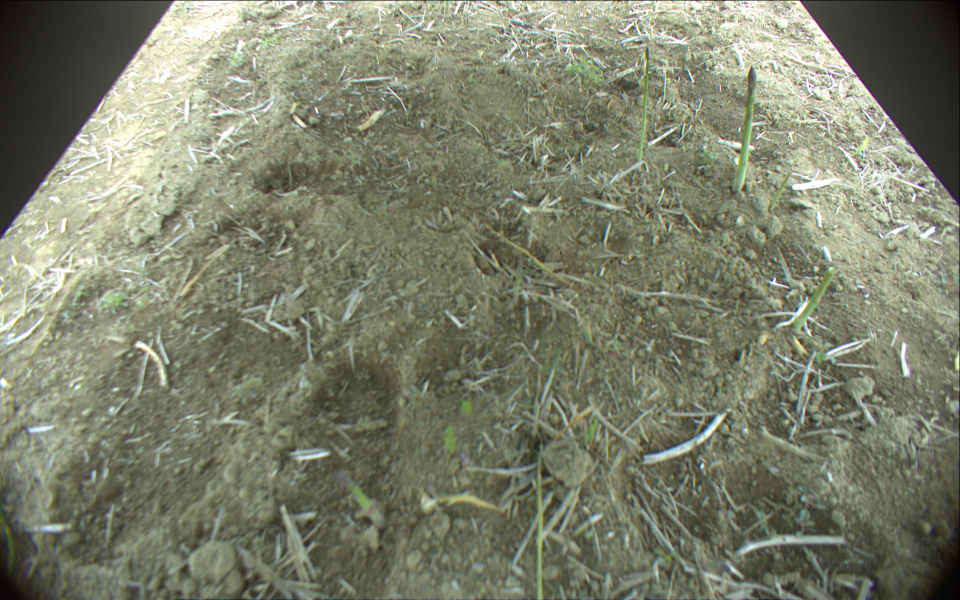aspa: (788, 269, 838, 331), (732, 64, 754, 195), (339, 473, 389, 529), (532, 448, 548, 600), (634, 47, 653, 168), (767, 171, 792, 216)
